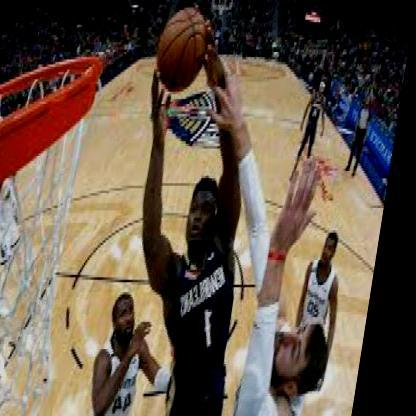basketball: (153, 7, 213, 94)
rim: (0, 52, 108, 213)
